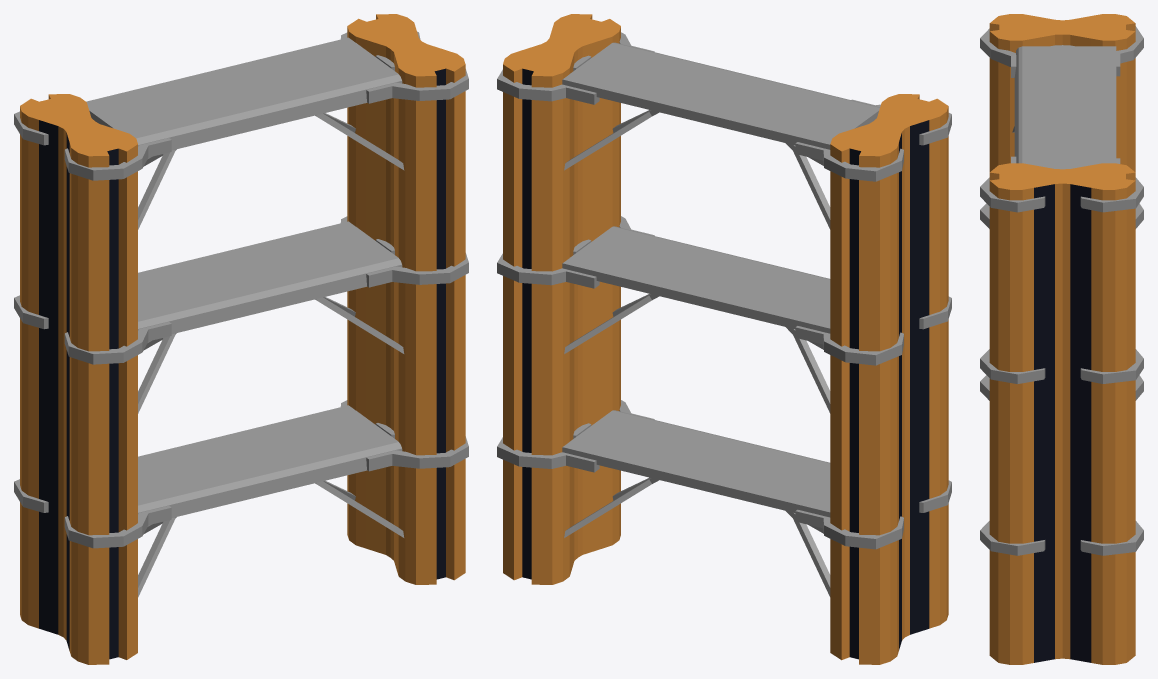
File: ladder.fbx
3 renders of one model, left to right at view 1: azimuth 30°, elevation 25°; view 2: azimuth 150°, elevation 25°; view 3: azimuth 270°, elevation 25°, orthographic. The views are drawn at different scales.
Visible parts, largest first — view 1: Cylinder, Plane, Plane.001; view 2: Cylinder, Plane, Plane.001; view 3: Cylinder, Plane.
Part boxes in pixels (left/top/right/bottom): Cylinder: left=20, top=14, right=465, bottom=664; Plane: left=14, top=31, right=468, bottom=548; Plane.001: left=138, top=113, right=404, bottom=597; Cylinder: left=503, top=14, right=948, bottom=664; Plane: left=497, top=32, right=951, bottom=549; Plane.001: left=564, top=110, right=830, bottom=596; Cylinder: left=989, top=14, right=1135, bottom=664; Plane: left=980, top=26, right=1143, bottom=555.
Bounding box in the file's own units: 160 × 196 × 61.39.
